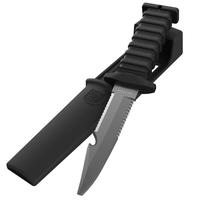knife: (76, 8, 172, 199)
